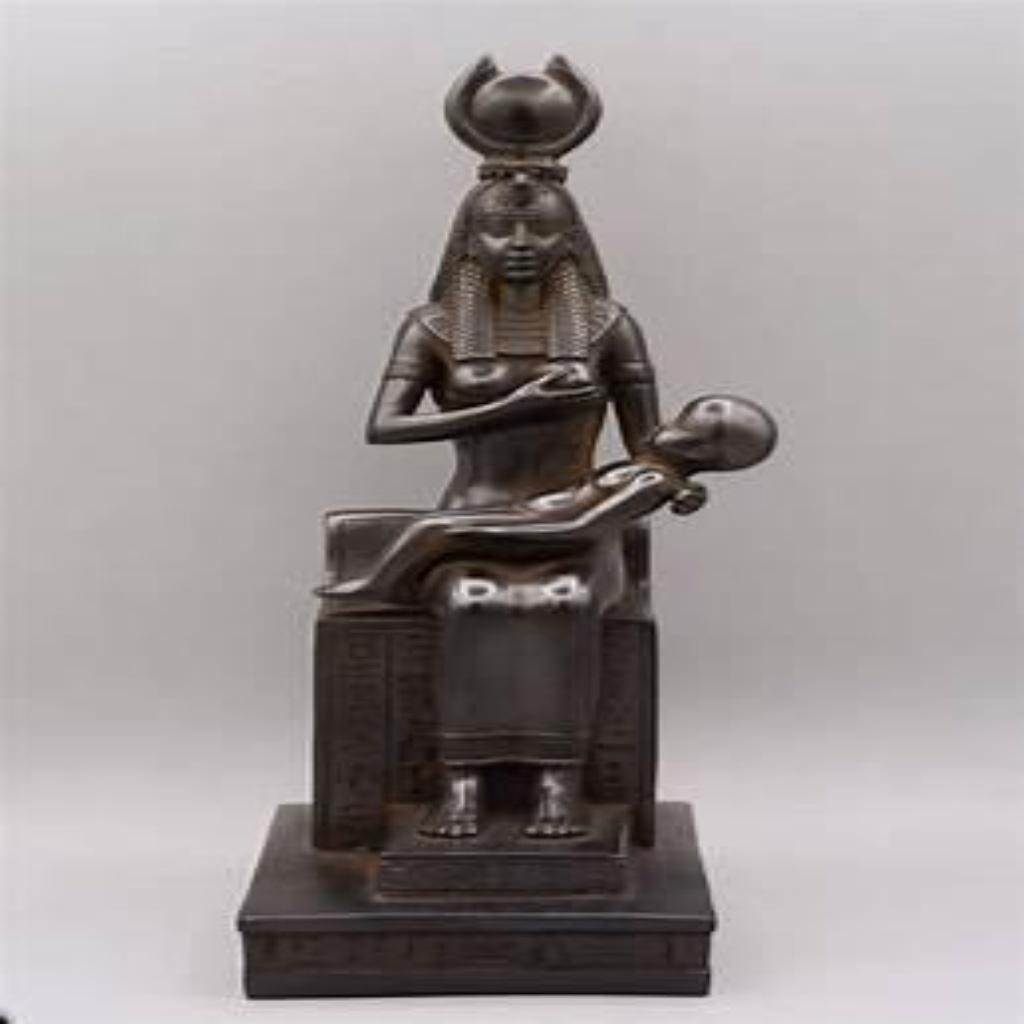Isis with her child: (230, 45, 786, 1000)
